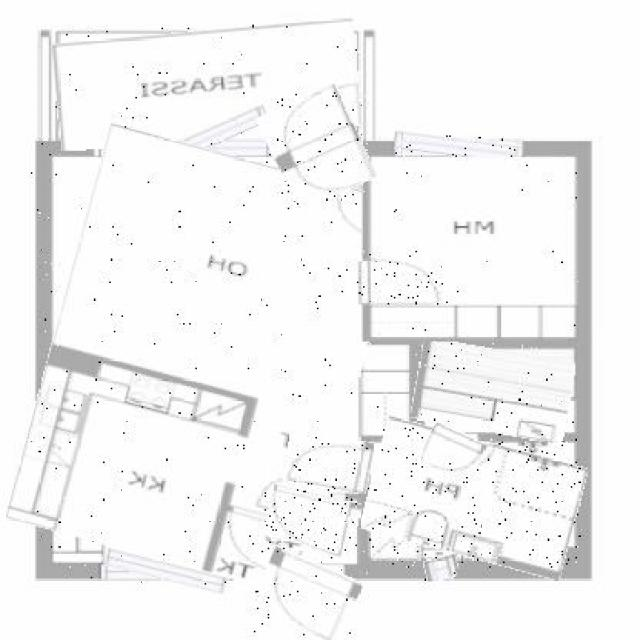door: (266, 90, 368, 204), (254, 554, 358, 640), (265, 489, 360, 557), (285, 432, 372, 491), (354, 260, 443, 305), (425, 426, 486, 479)
window: (100, 120, 272, 174), (105, 556, 228, 586), (394, 135, 520, 160), (425, 555, 457, 580)
zone: (29, 140, 382, 578), (362, 157, 578, 341), (54, 24, 360, 144), (366, 428, 582, 568), (414, 343, 574, 437)
